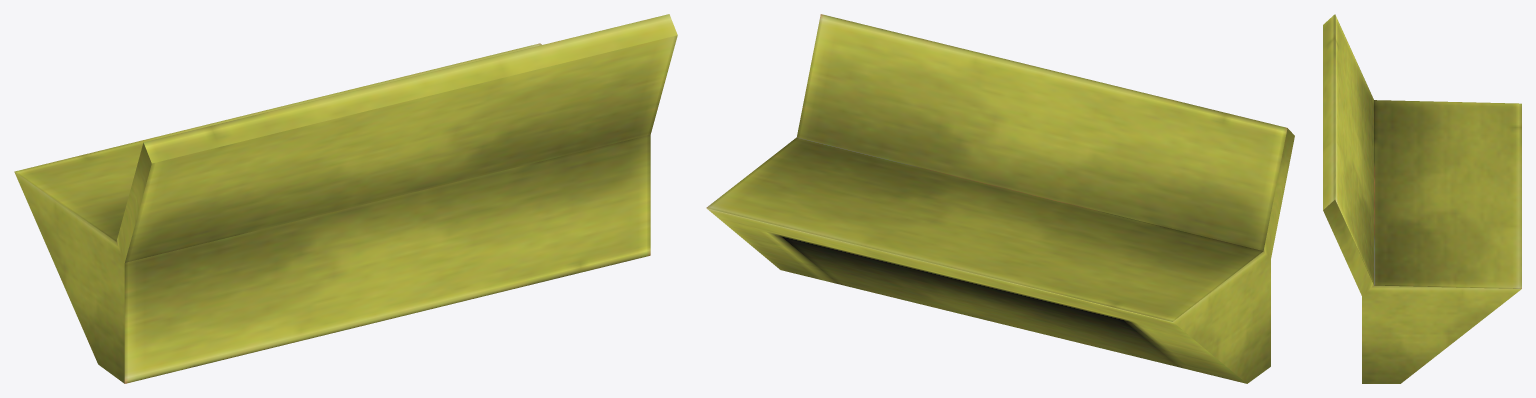
Rendered from bench01.glb.
3 renders of one model, left to right at view 1: azimuth 30°, elevation 25°; view 2: azimuth 150°, elevation 25°; view 3: azimuth 270°, elevation 25°, orthographic. The views are drawn at different scales.
Visible parts, largest first — view 1: bench01; view 2: bench01; view 3: bench01.
Boxes of the visible parts, bbox=[...] form: bench01: bbox=[14, 14, 677, 383]; bench01: bbox=[706, 14, 1294, 383]; bench01: bbox=[1323, 14, 1521, 383].
Bounding box in the file's own units: 289 × 134 × 131.
1 material, 1 textured.
